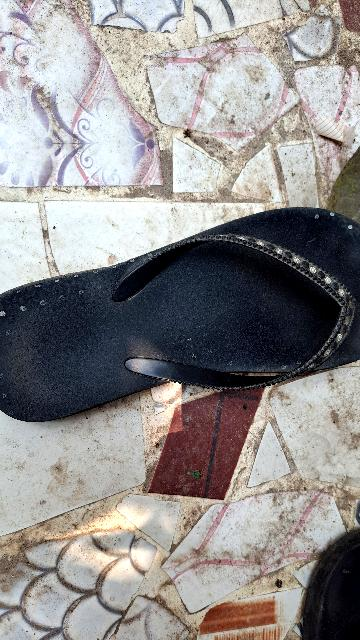sandal: (0, 193, 360, 423)
